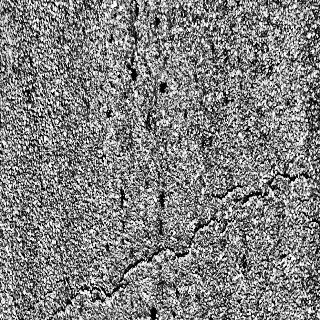crack: (124, 214, 232, 276), (47, 264, 135, 320), (208, 168, 320, 206)
